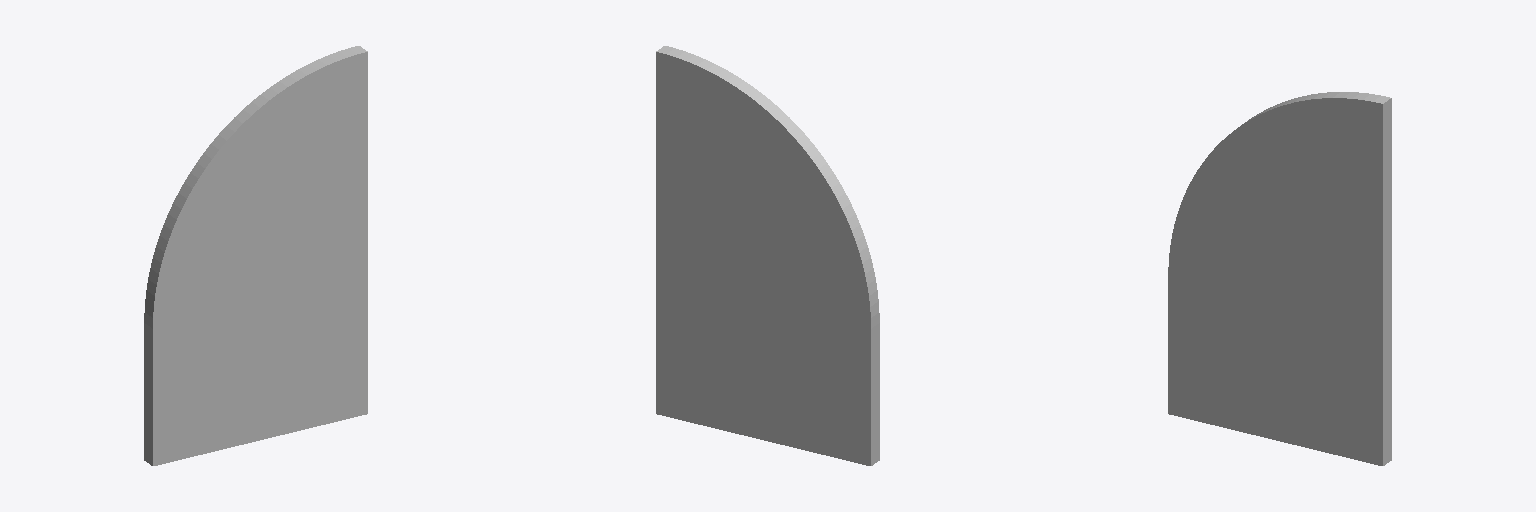
The model's file is door_right.obj.
3 views of the same model, side by side, from view 1: azimuth 30°, elevation 25°; view 2: azimuth 150°, elevation 25°; view 3: azimuth 330°, elevation 25° (orthographic).
Visible parts, largest first — view 1: MeshBody7; view 2: MeshBody7; view 3: MeshBody7.
Boxes of the visible parts, box(x1,y1,x2,y2) form: MeshBody7: box(144, 46, 367, 465); MeshBody7: box(656, 46, 879, 465); MeshBody7: box(1168, 92, 1391, 465).
Size of the model in its own units: 4.34 by 7 by 0.3.